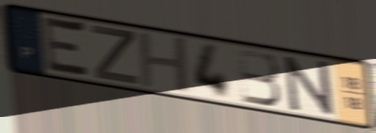4: (191, 41, 236, 102)
B: (236, 47, 284, 108)
E: (42, 13, 93, 82)
H: (135, 31, 193, 95)
N: (282, 55, 336, 118)
Z: (89, 23, 141, 88)
